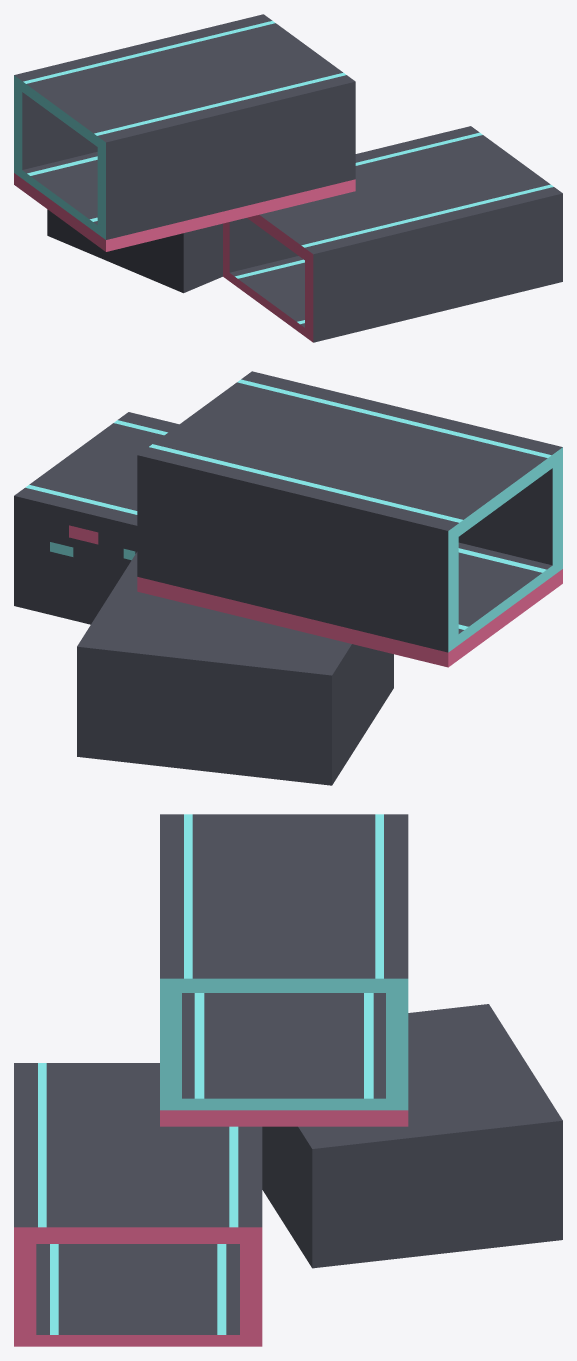
The picture shows the model from 3 angles, top to bottom: view 1: azimuth 30°, elevation 25°; view 2: azimuth 150°, elevation 25°; view 3: azimuth 270°, elevation 25°; orthographic projection. The views are drawn at different scales.
Visible parts, largest first — view 1: PK_SD_03; view 2: PK_SD_03; view 3: PK_SD_03.
Part boxes in pixels (box(x1,y1,x2,y2)): PK_SD_03: box(14, 14, 562, 342); PK_SD_03: box(14, 371, 562, 785); PK_SD_03: box(14, 814, 562, 1346).
Size of the model in its own units: 5.96 by 2.8 by 5.21.
